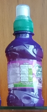blueberries: (6, 4, 44, 108)
